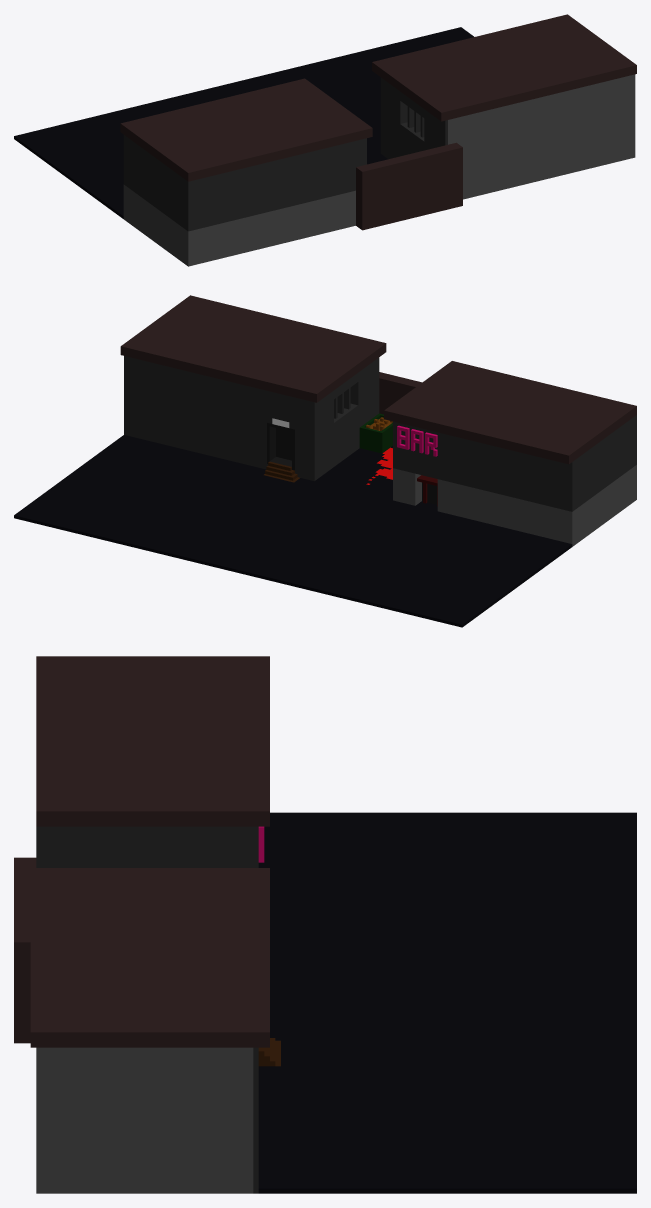
Rendered from Bunny And Chide.obj.
The picture shows the model from 3 angles, top to bottom: view 1: azimuth 30°, elevation 25°; view 2: azimuth 150°, elevation 25°; view 3: azimuth 270°, elevation 25°; orthographic projection. The views are drawn at different scales.
Size of the model in its own units: 16 by 3.2 by 11.2.
